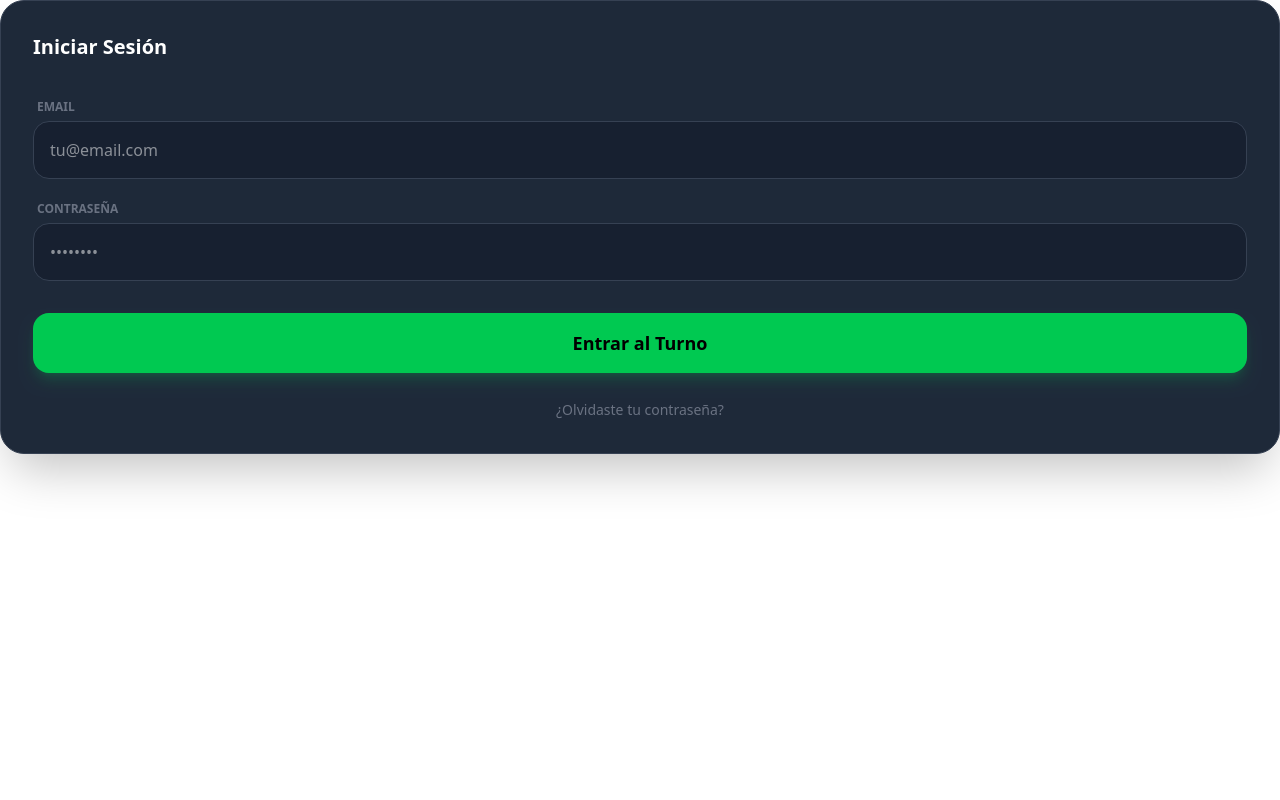
Formulario de login › muestra el error cuando se rechazan las credenciales
The image size is (1280, 800).
Type "prueba@example.com" into the field with placeholder "tu@email.com" at (640, 150), box [33, 121, 1247, 179]
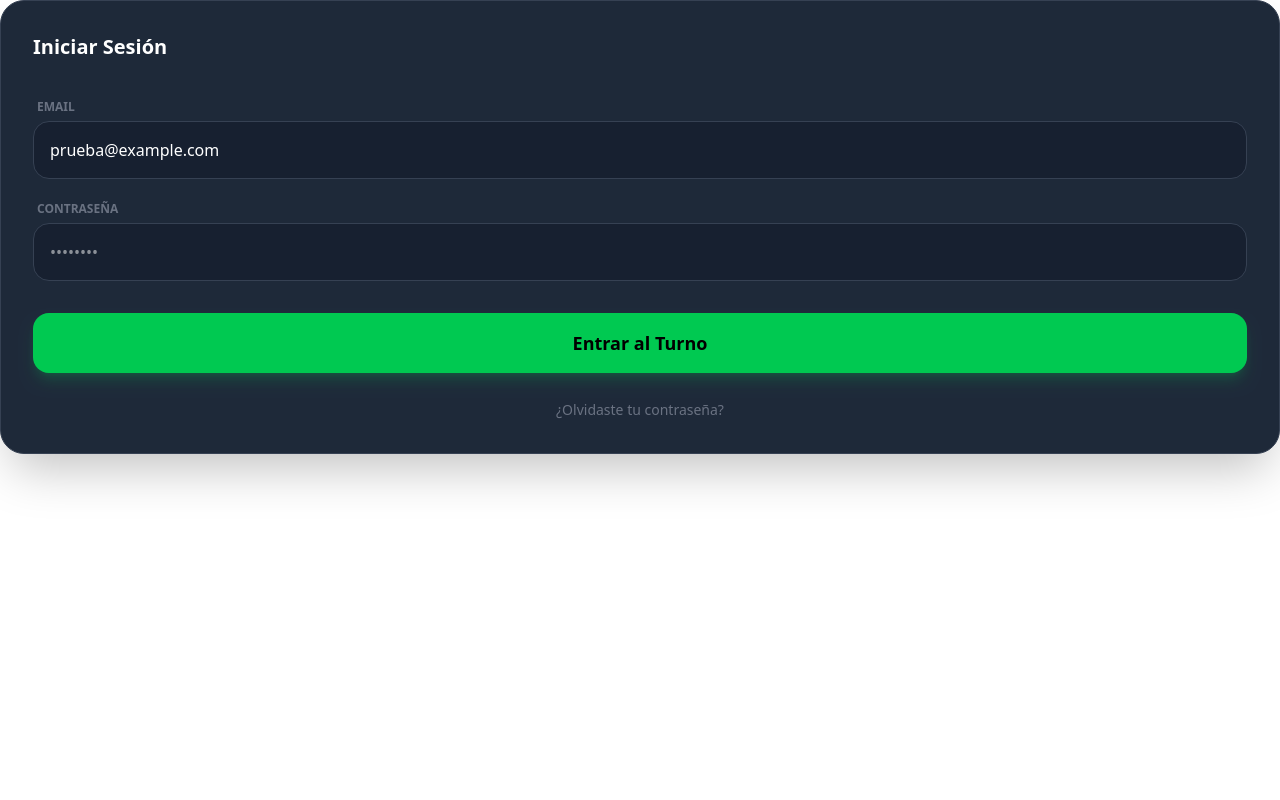
Type "contraseña-de-prueba" into the password field with placeholder "••••••••" at (640, 252), box [33, 223, 1247, 281]
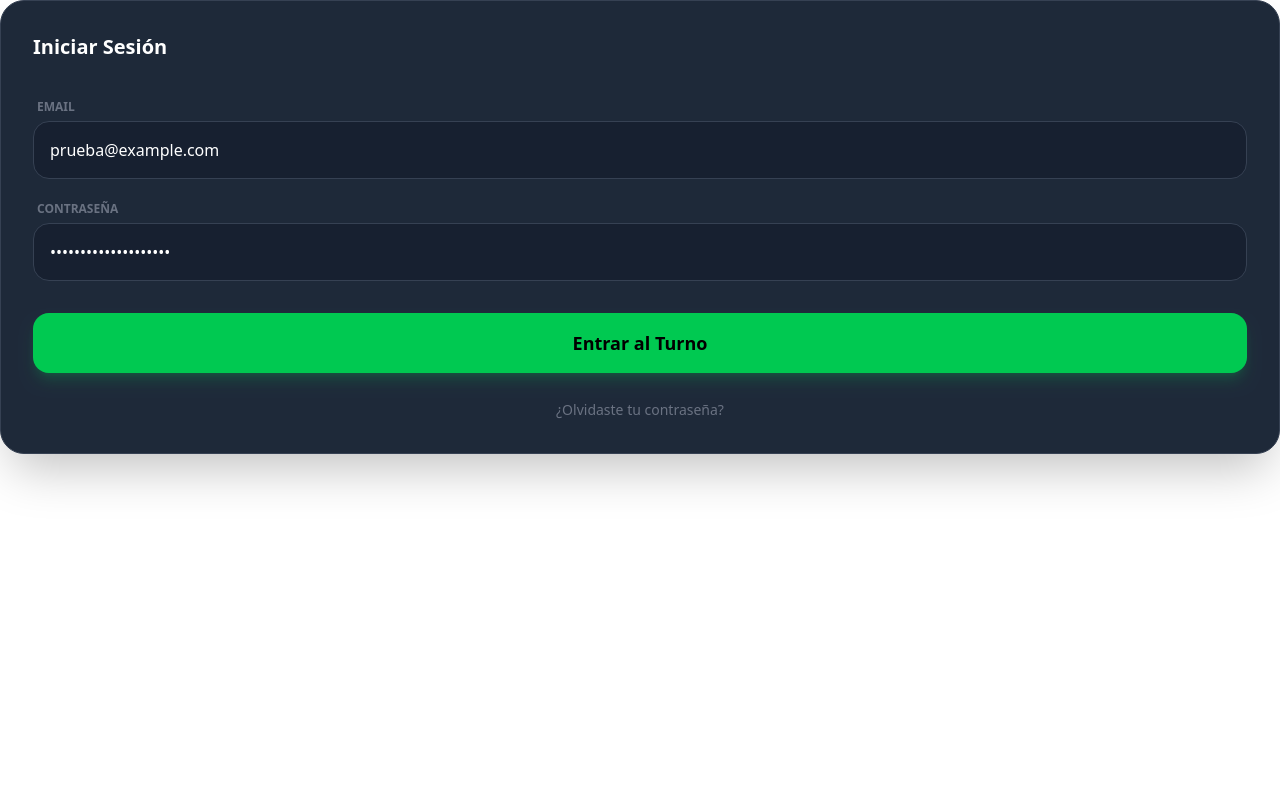
Click the button "Entrar al Turno" at (640, 343), box [33, 313, 1247, 373]
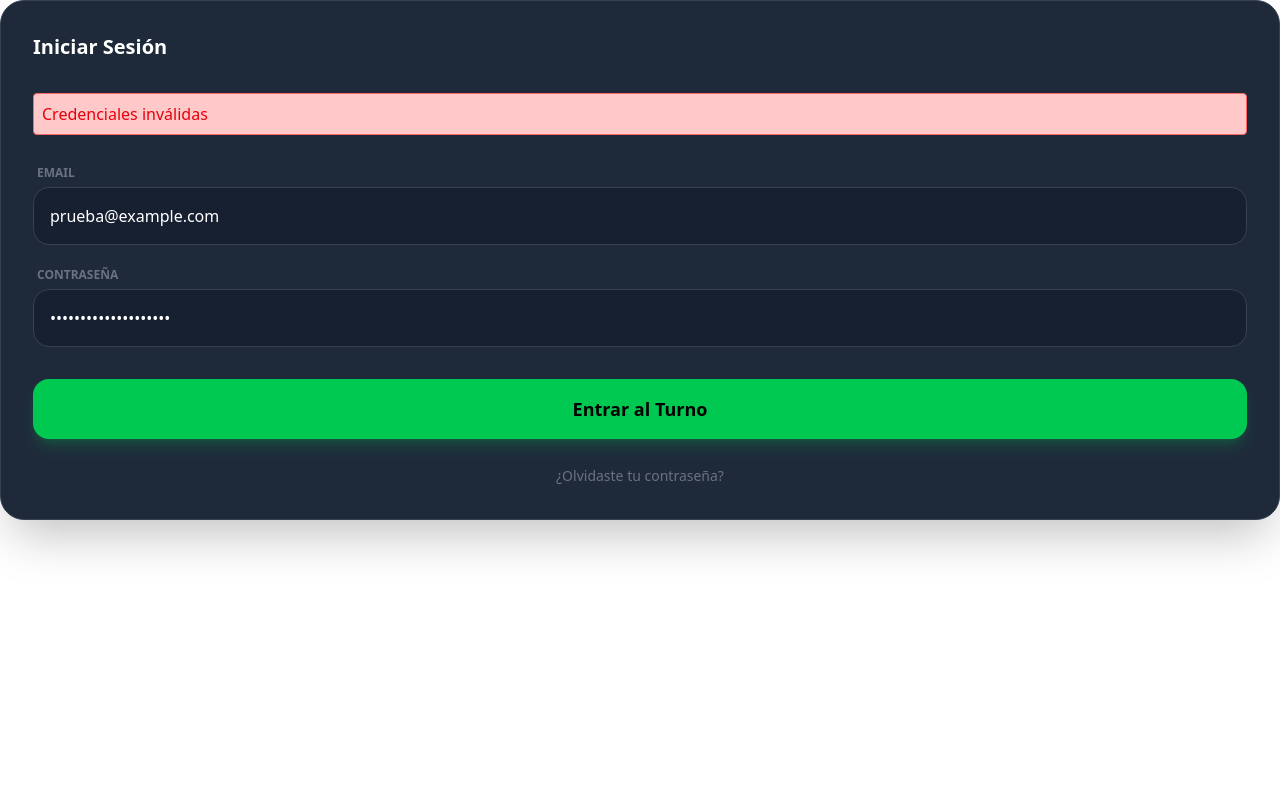
Now the text "Credenciales inválidas" is shown, box [42, 103, 208, 125]
